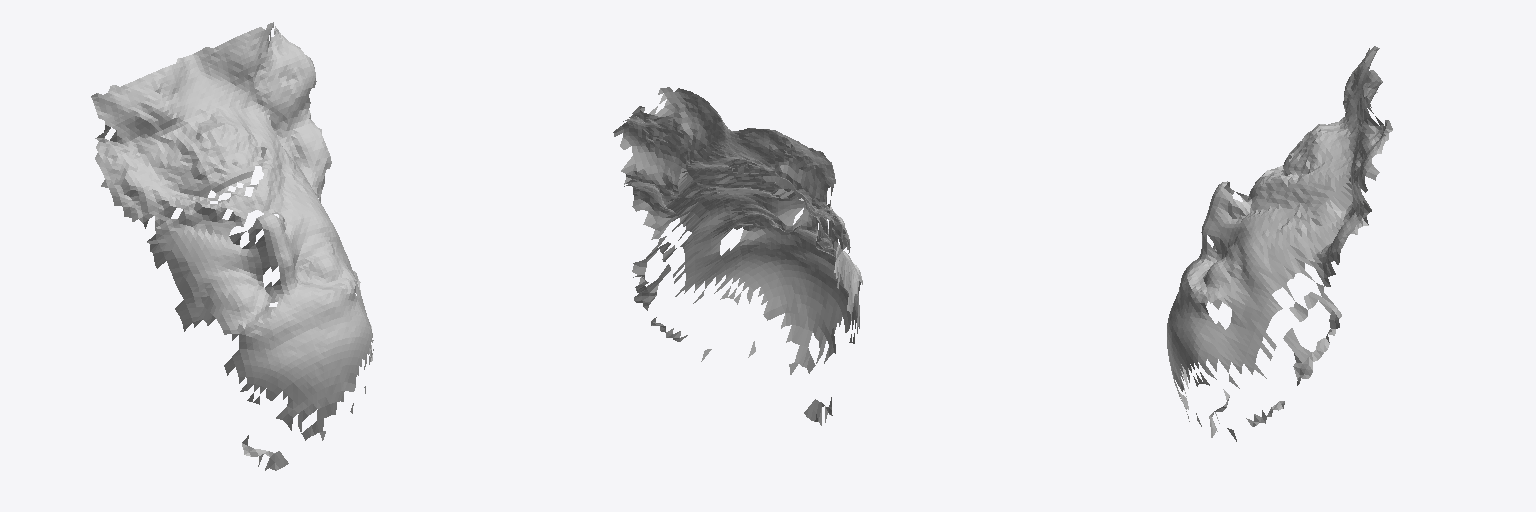
File: jakA6620.obj
The picture shows the model from 3 angles: view 1: azimuth 30°, elevation 25°; view 2: azimuth 150°, elevation 25°; view 3: azimuth 270°, elevation 25°; orthographic projection.
Bounding box in the file's own units: 4.12 × 6.23 × 3.42.